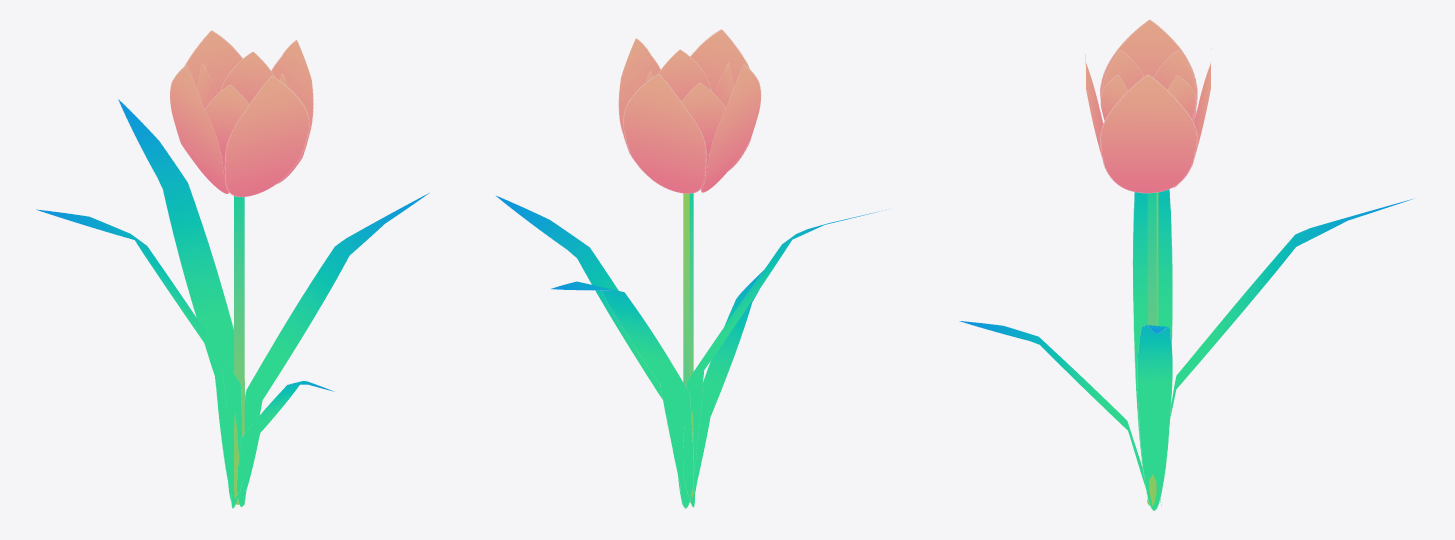
File: Flowers_n02_16.fbx
The picture shows the model from 3 angles, left to right: view 1: azimuth 30°, elevation 25°; view 2: azimuth 150°, elevation 25°; view 3: azimuth 270°, elevation 25°; orthographic projection. The views are drawn at different scales.
Parts seen in each view (by area): view 1: polySurface253; view 2: polySurface253; view 3: polySurface253.
Part boxes in pixels (bbox=[...]): polySurface253: bbox=[36, 30, 429, 508]; polySurface253: bbox=[495, 29, 886, 508]; polySurface253: bbox=[959, 19, 1414, 510].
Bounding box in the file's own units: 39.79 × 41.68 × 38.83.
Materials: 1 (1 with a texture image).
